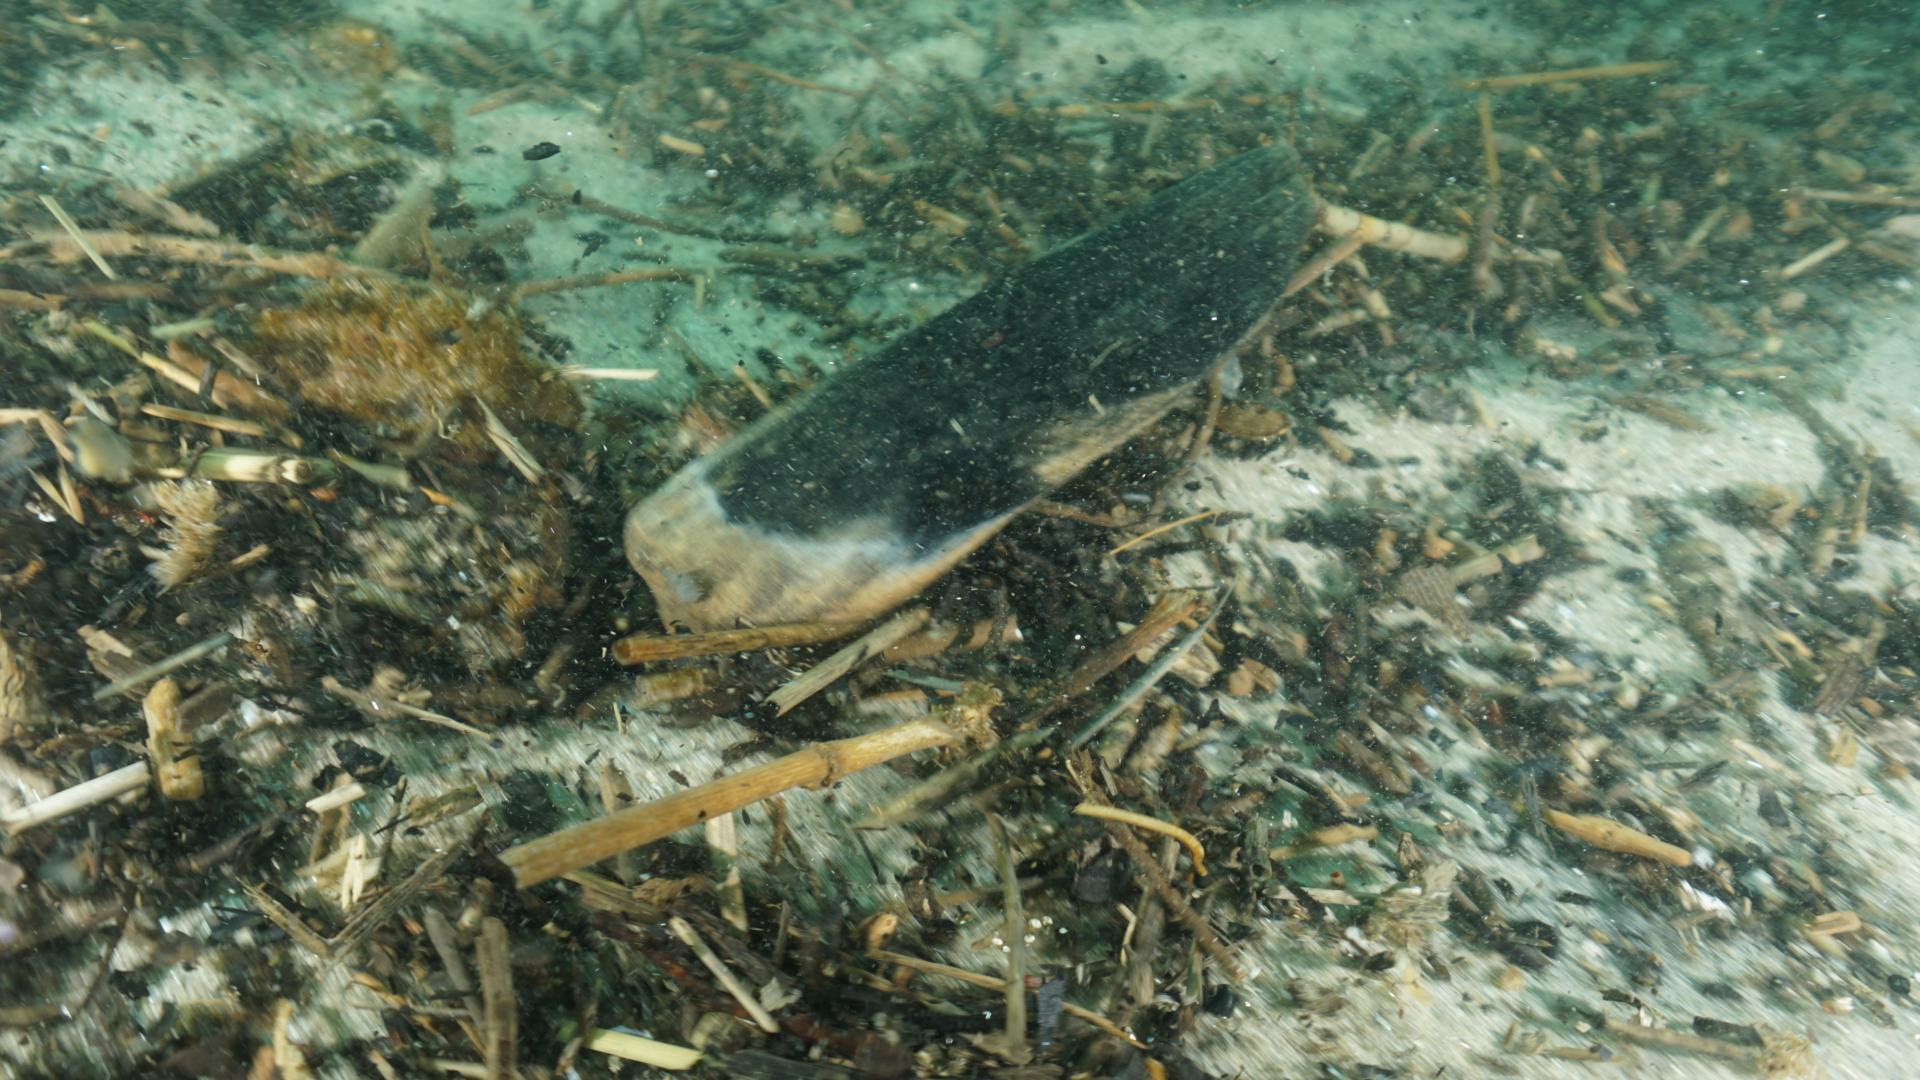wood: (622, 129, 1357, 665)
